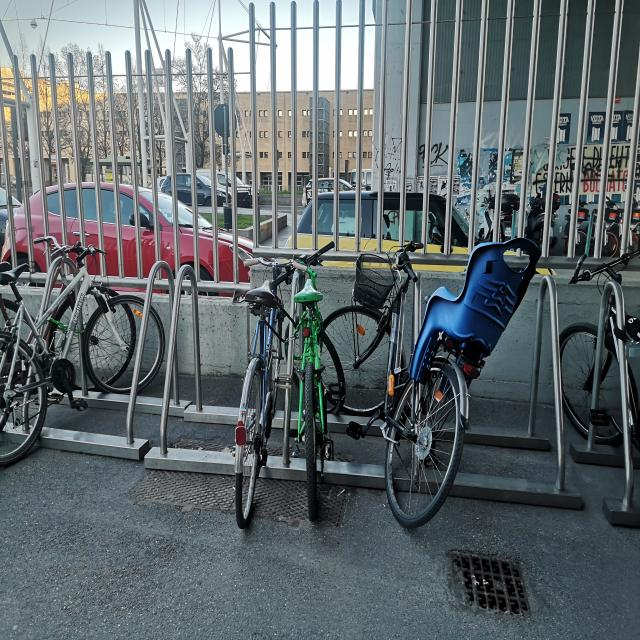Bicycle: (316, 228, 536, 530), (0, 235, 174, 500), (282, 236, 372, 512), (560, 254, 640, 512), (220, 228, 285, 532), (0, 227, 80, 445)
